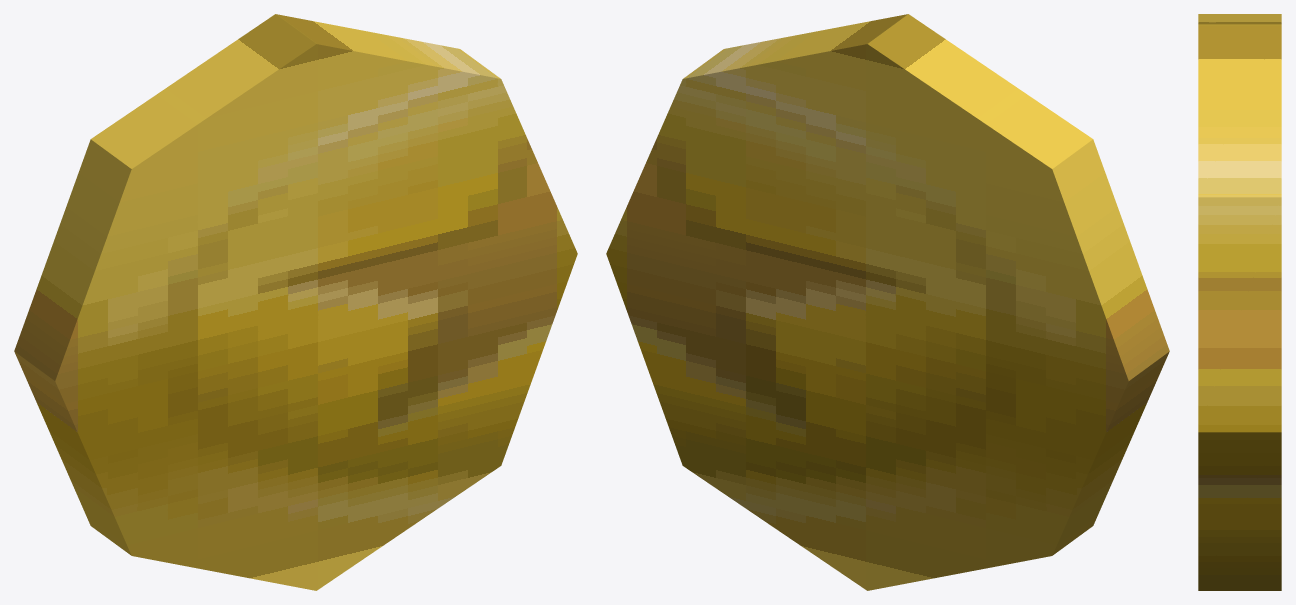
Rendered from arc0_5.glb.
3 renders of one model, left to right at view 1: azimuth 30°, elevation 25°; view 2: azimuth 150°, elevation 25°; view 3: azimuth 270°, elevation 25°, orthographic.
Parts seen in each view (by area): view 1: arc0_5; view 2: arc0_5; view 3: arc0_5.
Boxes of the visible parts, x1,y1,x2,y2 form: arc0_5: (14,14,577,590); arc0_5: (606,14,1169,590); arc0_5: (1198,14,1281,590).
Size of the model in its own units: 5.94 by 5.94 by 0.8081.
Materials: 1 (1 with a texture image).
